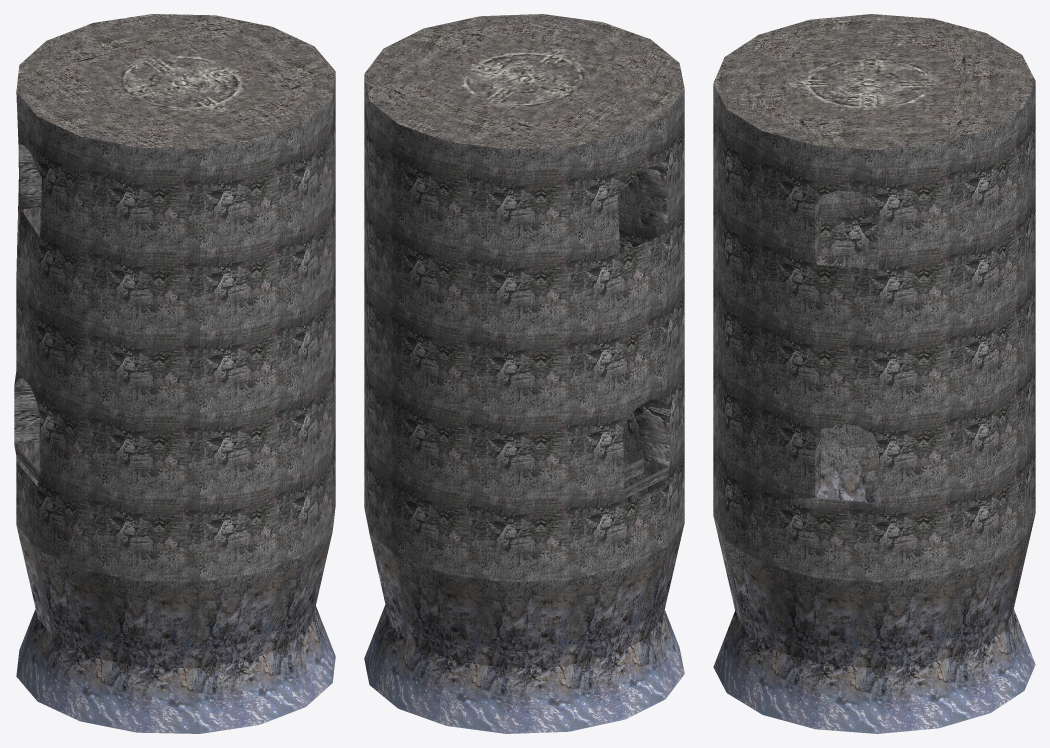
The picture shows the model from 3 angles, left to right: view 1: azimuth 30°, elevation 25°; view 2: azimuth 150°, elevation 25°; view 3: azimuth 270°, elevation 25°; orthographic projection.
Parts seen in each view (by area): view 1: NZ05; view 2: NZ05; view 3: NZ05.
Part boxes in pixels (left/top/right/bottom): NZ05: left=14, top=14, right=335, bottom=733; NZ05: left=364, top=14, right=684, bottom=733; NZ05: left=713, top=14, right=1035, bottom=733.
Size of the model in its own units: 502 by 999 by 500.
